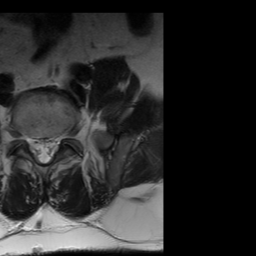CCS_normal: (38, 131, 49, 167)
LFS_stenosis: (57, 128, 66, 149)
LLS_normal: (49, 129, 57, 161)
RFS_stenosis: (19, 126, 30, 149)
RLS_normal: (30, 132, 39, 161)
